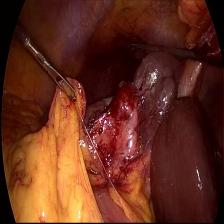Grasper: (27, 35, 78, 106), (127, 36, 154, 56)
